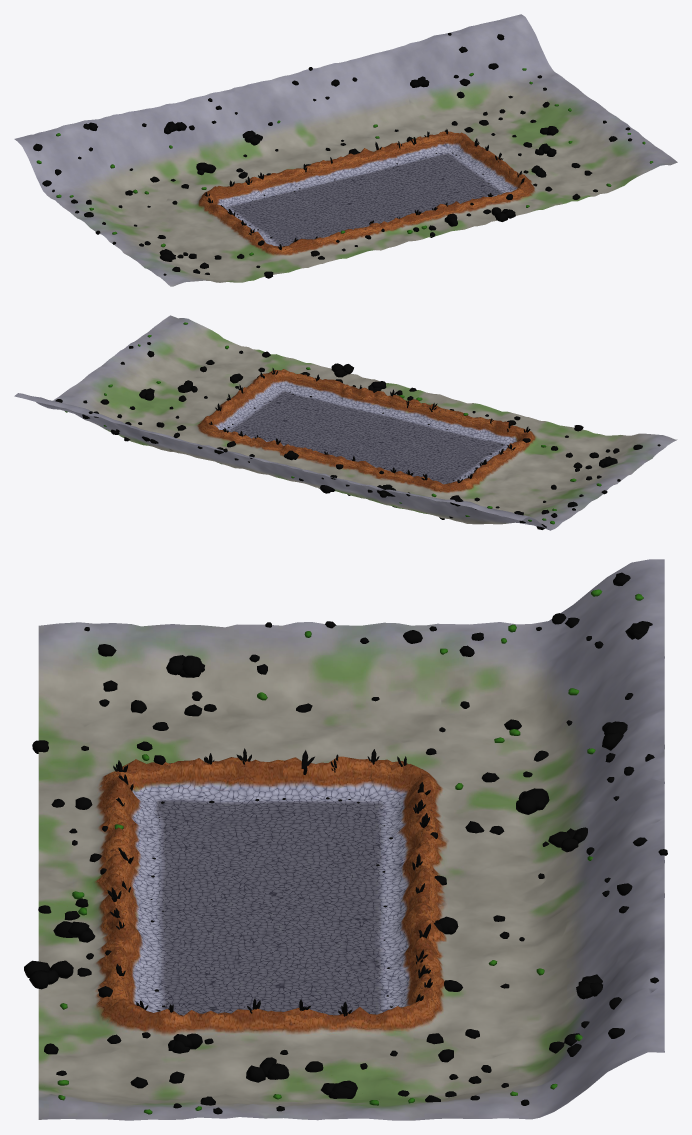
Rendered from surroundings_29x11.glb.
The picture shows the model from 3 angles, top to bottom: view 1: azimuth 30°, elevation 25°; view 2: azimuth 150°, elevation 25°; view 3: azimuth 270°, elevation 25°; orthographic projection. The views are drawn at different scales.
Visible parts, largest first — view 1: ground, props; view 2: ground, props; view 3: ground, props.
Part boxes in pixels (left/top/right/bottom): ground: left=14, top=14, right=677, bottom=286; props: left=33, top=33, right=653, bottom=278; ground: left=14, top=315, right=677, bottom=530; props: left=55, top=322, right=660, bottom=529; ground: left=38, top=559, right=664, bottom=1120; props: left=24, top=572, right=667, bottom=1114.
Bounding box in the file's own units: 73.24 × 7.6 × 40.12.
3 materials, 3 textured.
